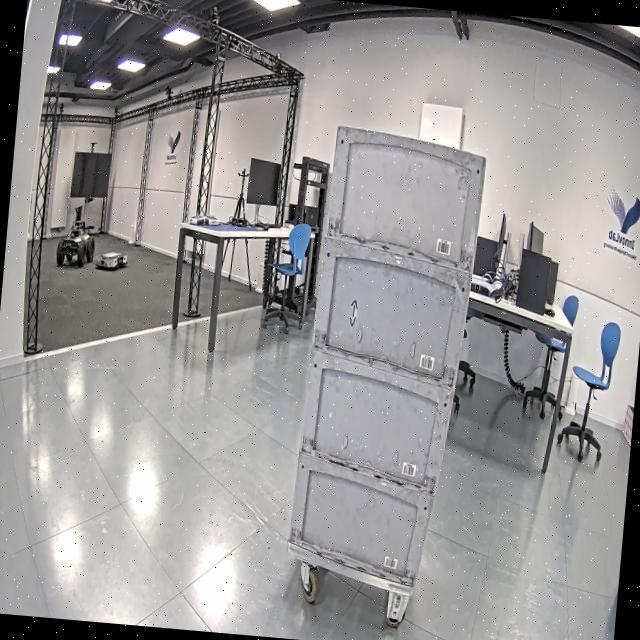Box4G: (308, 235, 475, 396), (321, 123, 488, 276), (296, 346, 459, 498), (284, 449, 438, 593)
